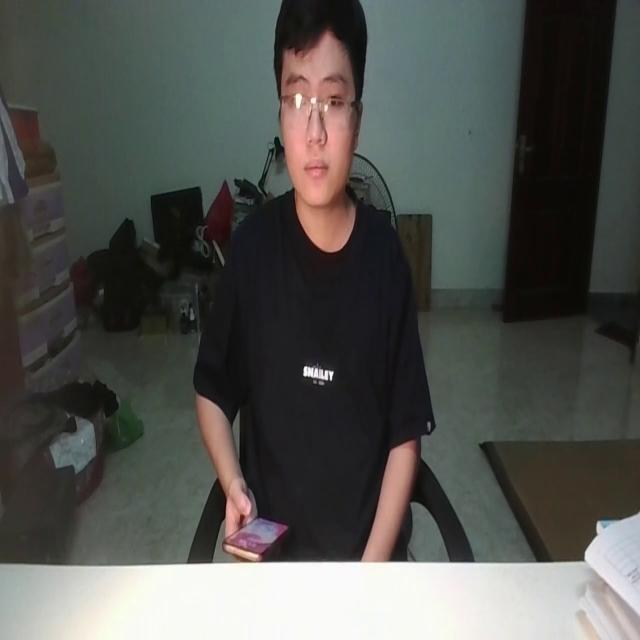phone: (221, 509, 291, 558)
student: (194, 0, 427, 568)
